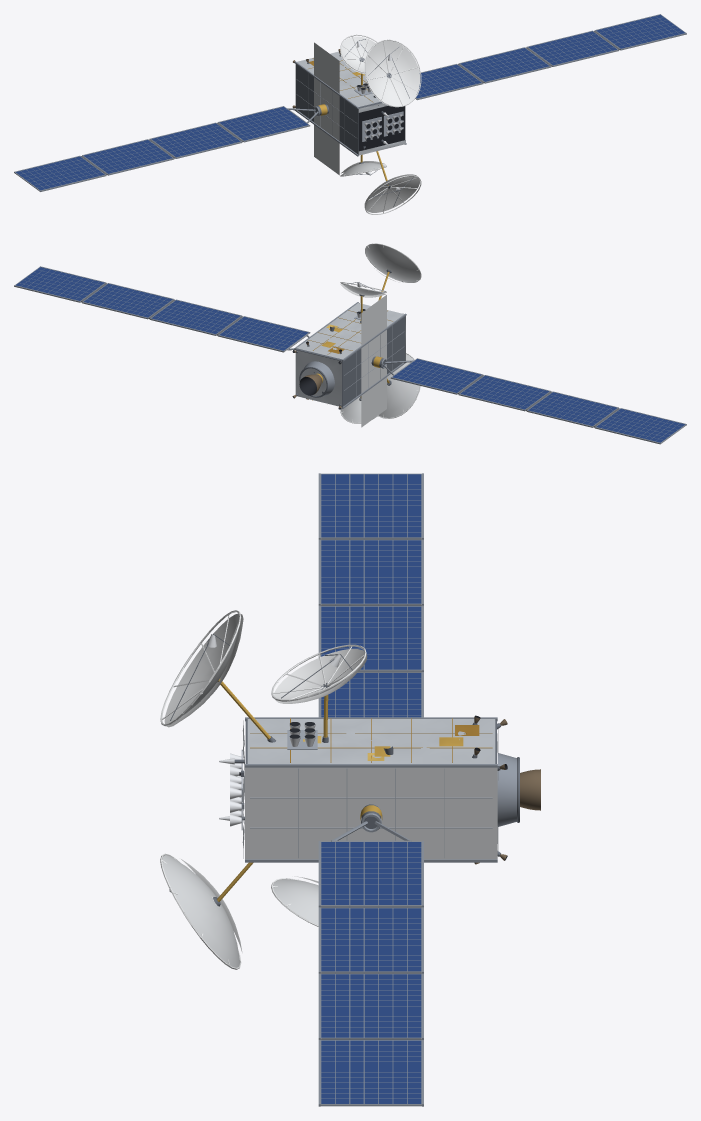
Rendered from bus-a2100.glb.
3 views of the same model, one above another, from view 1: azimuth 30°, elevation 25°; view 2: azimuth 150°, elevation 25°; view 3: azimuth 270°, elevation 25° (orthographic). The views are drawn at different scales.
Parts seen in each view (by area): view 1: body, solar-panel, foil; view 2: body, solar-panel, foil; view 3: body, solar-panel, foil.
Part boxes in pixels (<box>): body: <box>14,14,686,214</box>; solar-panel: <box>15,15,684,190</box>; foil: <box>297,51,405,185</box>; body: <box>14,243,686,444</box>; solar-panel: <box>16,267,685,442</box>; foil: <box>295,271,405,406</box>; body: <box>160,473,540,1106</box>; solar-panel: <box>321,474,421,1103</box>; foil: <box>217,679,498,901</box>.
Size of the model in its own units: 26 by 6.68 by 6.63.
